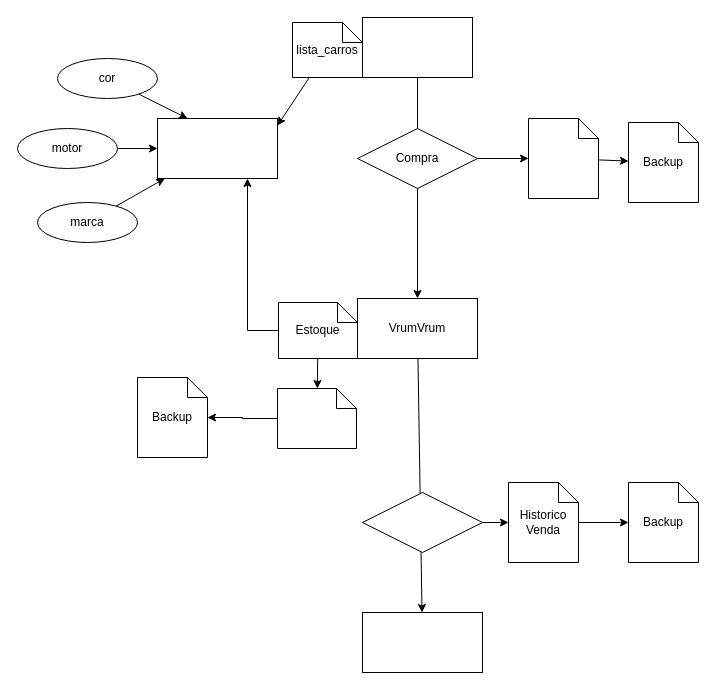
The diagram is 716 pixels wide and 690 high, and some of its shapes have lost their labels. Here are the shapes that lost their labels. From the top down, the centre of each, then its label:
At pixel 417 47: "Banco (instituições)".
At pixel 217 148: "Carro".
At pixel 563 158: "Historico Compra".
At pixel 316 418: "Marcas/Taxas".
At pixel 422 522: "Venda".
At pixel 422 642: "Cliente".
